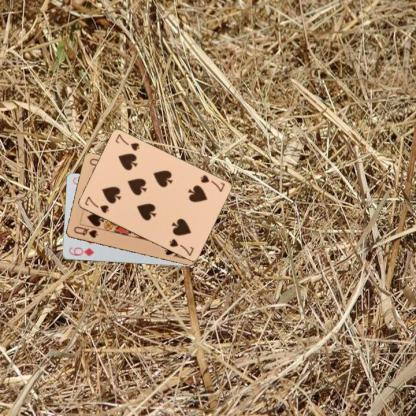6d: (66, 246, 95, 258)
7s: (82, 193, 110, 214), (198, 172, 226, 193)
Qs: (71, 224, 99, 239)
